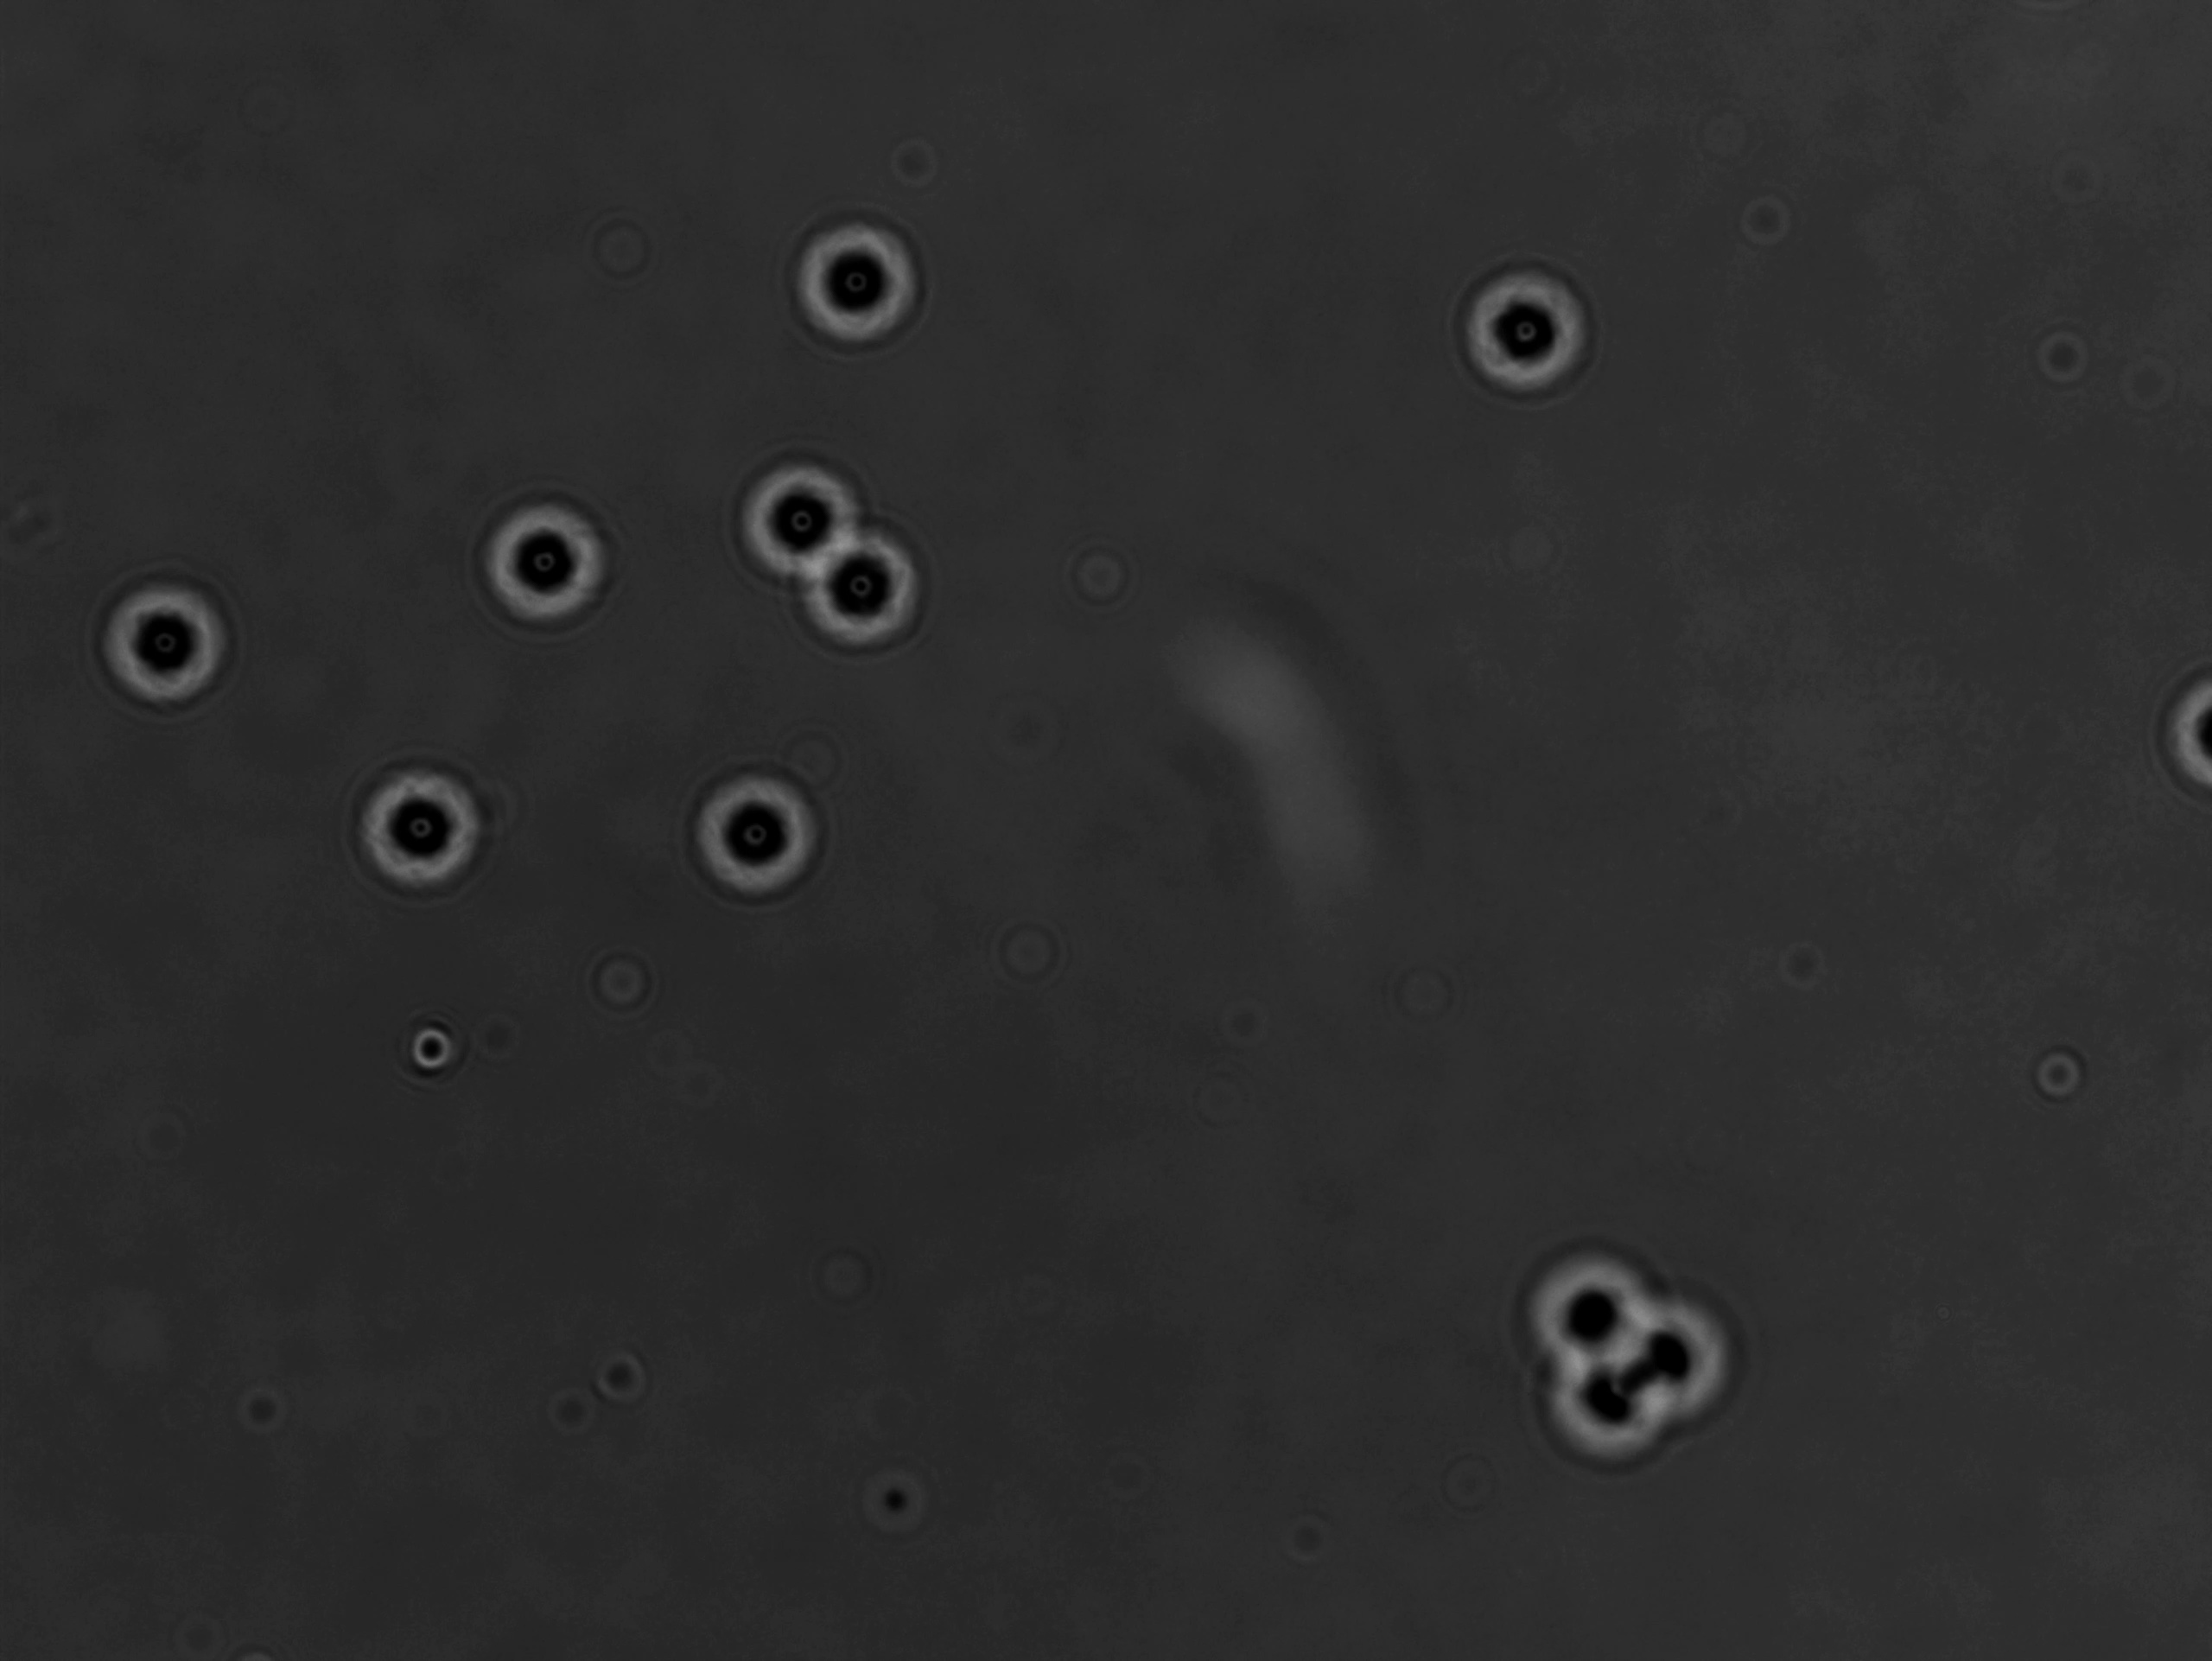depth:-20: (461, 468, 647, 649), (1436, 239, 1612, 405), (764, 197, 937, 361), (675, 754, 850, 913), (1521, 1225, 1697, 1378), (349, 748, 518, 904), (719, 441, 869, 597), (89, 567, 242, 715), (801, 523, 937, 668)
